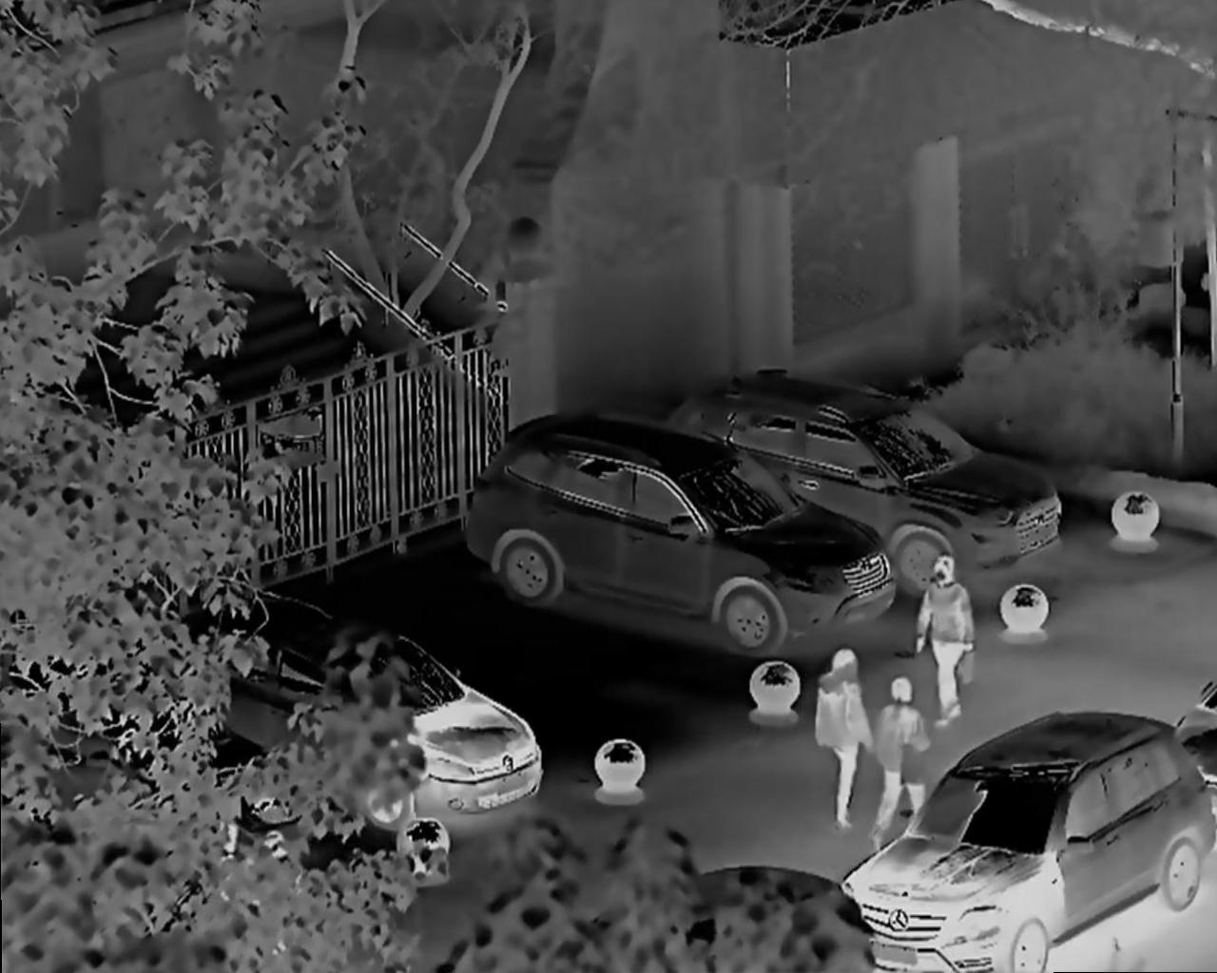person: (915, 549, 982, 747), (812, 646, 879, 799), (869, 671, 919, 830)
